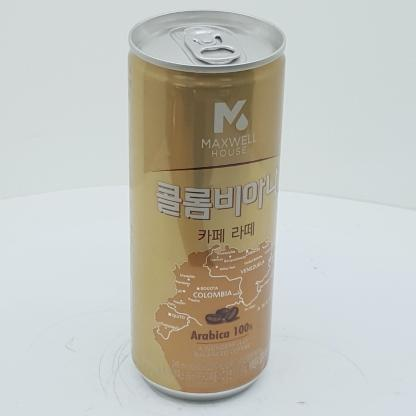-----------------240ML: (127, 9, 286, 401)
